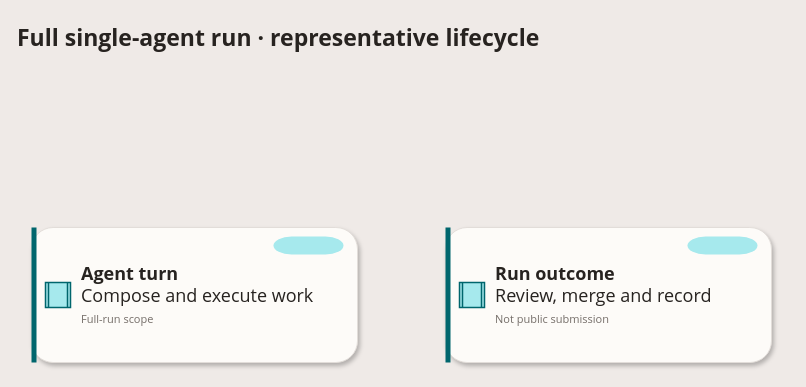
Some shapes in this 806 by 387 pixel diagram are drawn without their labels. The shapes that lost their labels are listed below. From the top down, each one's centre as x and y in pixels, then its label:
At (308,245): "SCOPE".
At (722,245): "RESULT".
